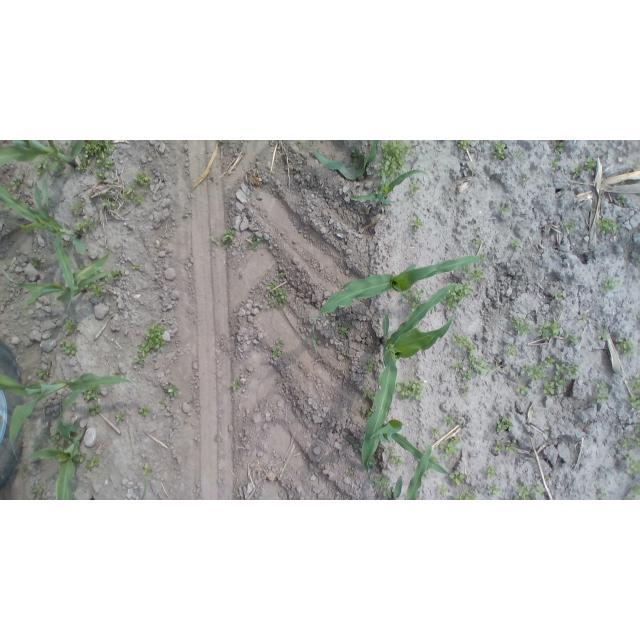Maize: (361, 279, 467, 474), (313, 252, 482, 351), (0, 372, 138, 460), (0, 174, 86, 311), (3, 249, 112, 309), (27, 417, 89, 500), (376, 445, 448, 500), (348, 162, 432, 206), (0, 139, 84, 172), (310, 141, 382, 179)
Weeds: (378, 141, 414, 180), (545, 356, 580, 396), (79, 140, 119, 174), (137, 321, 168, 361), (442, 281, 475, 310), (514, 476, 551, 500), (395, 379, 425, 402), (439, 436, 461, 462), (403, 288, 425, 312), (372, 475, 394, 499), (538, 320, 563, 341), (268, 283, 289, 307), (621, 424, 640, 450), (468, 353, 490, 375), (521, 363, 546, 382), (597, 216, 622, 235), (121, 187, 146, 206), (453, 332, 476, 352), (509, 315, 531, 335), (74, 217, 100, 233), (213, 228, 236, 246), (617, 337, 635, 356), (387, 449, 406, 467), (491, 140, 508, 160), (600, 276, 620, 293), (626, 452, 640, 476), (35, 157, 52, 176), (493, 440, 516, 454), (82, 387, 102, 403), (497, 415, 514, 433), (133, 171, 152, 187), (60, 340, 79, 356), (596, 381, 609, 404), (106, 268, 127, 282), (461, 371, 473, 395), (86, 282, 104, 298), (453, 488, 477, 500), (271, 339, 286, 358), (449, 470, 465, 487), (164, 382, 180, 398), (63, 320, 80, 335), (246, 235, 262, 250), (51, 433, 65, 450), (364, 359, 379, 374), (471, 267, 486, 282), (451, 360, 467, 374), (85, 457, 101, 471), (101, 193, 116, 207), (8, 177, 22, 192), (487, 482, 502, 496), (514, 384, 530, 397), (87, 404, 102, 417), (71, 201, 84, 216), (565, 332, 580, 345), (584, 157, 597, 172), (443, 414, 459, 426), (628, 484, 640, 500), (30, 485, 43, 499), (597, 330, 611, 343), (484, 464, 497, 478), (138, 406, 153, 418), (52, 160, 64, 175), (628, 394, 639, 410), (571, 166, 584, 179), (412, 218, 425, 231), (362, 387, 374, 400), (114, 411, 127, 423), (410, 182, 421, 196), (74, 451, 86, 463), (498, 203, 510, 215), (563, 220, 575, 232), (504, 344, 516, 356), (437, 485, 449, 497), (38, 369, 51, 380), (553, 142, 566, 153), (628, 377, 638, 391), (350, 149, 362, 160), (472, 238, 484, 249), (30, 257, 42, 268), (458, 141, 471, 151), (461, 266, 472, 277), (96, 171, 108, 181), (142, 464, 151, 477), (231, 381, 241, 392), (555, 293, 566, 303), (617, 195, 627, 206), (364, 406, 375, 416), (510, 239, 521, 249), (340, 327, 350, 338), (157, 399, 167, 410), (31, 441, 41, 452), (555, 305, 566, 315), (598, 490, 609, 500), (550, 158, 560, 168), (520, 174, 531, 183), (42, 427, 50, 439), (431, 428, 441, 437), (630, 163, 640, 172), (579, 315, 587, 326), (133, 262, 142, 271), (329, 317, 339, 325), (512, 150, 522, 158), (57, 147, 68, 154), (431, 454, 440, 462), (479, 254, 488, 262), (111, 371, 121, 378), (95, 269, 106, 275), (278, 271, 286, 279), (183, 211, 190, 219), (424, 469, 430, 477), (79, 263, 85, 269), (213, 437, 219, 443), (235, 272, 243, 276), (277, 379, 283, 384), (350, 470, 355, 476), (637, 313, 640, 322)
